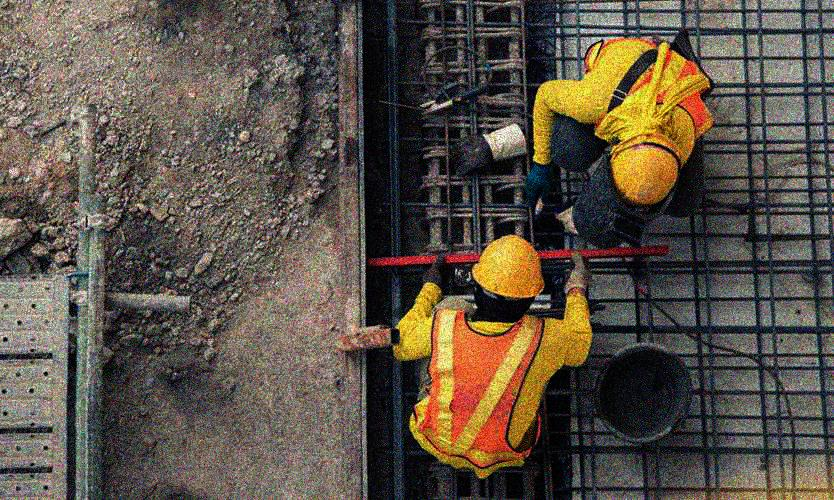helmet: (571, 129, 688, 248), (468, 231, 547, 326)
